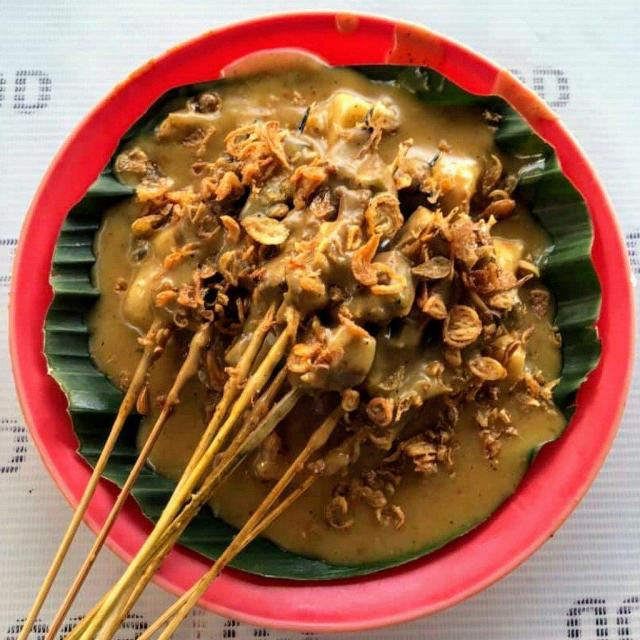Sate: (0, 77, 549, 640)
